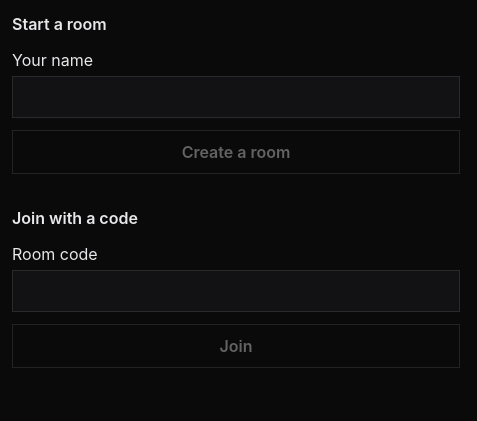
Scenario: starting a room › says so when the room could not be created
This screenshot has width=477, height=421.
Type "Ash" into the field labelled "Your name". click: (236, 97)
box: [12,76,460,118]
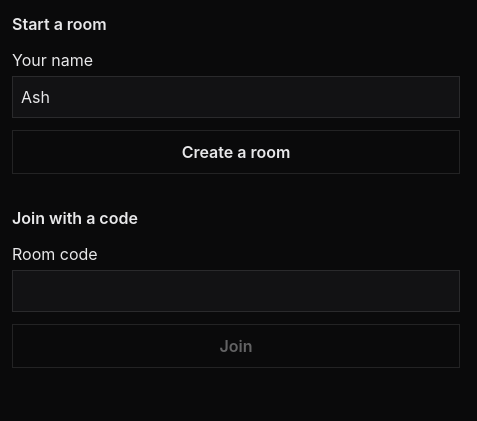
Click the button "Create a room". click: (236, 152)
box: [12,130,460,174]
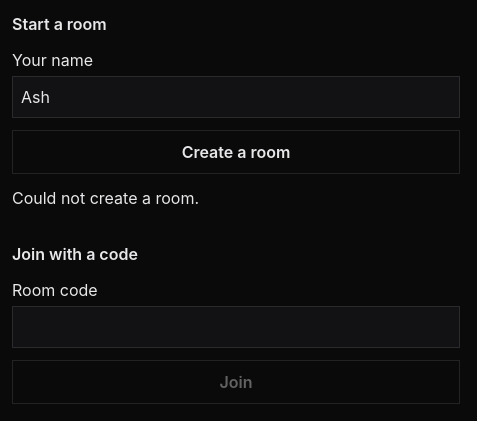
Check: the message "Could not create a room." is shown, box [12,188,199,208]
